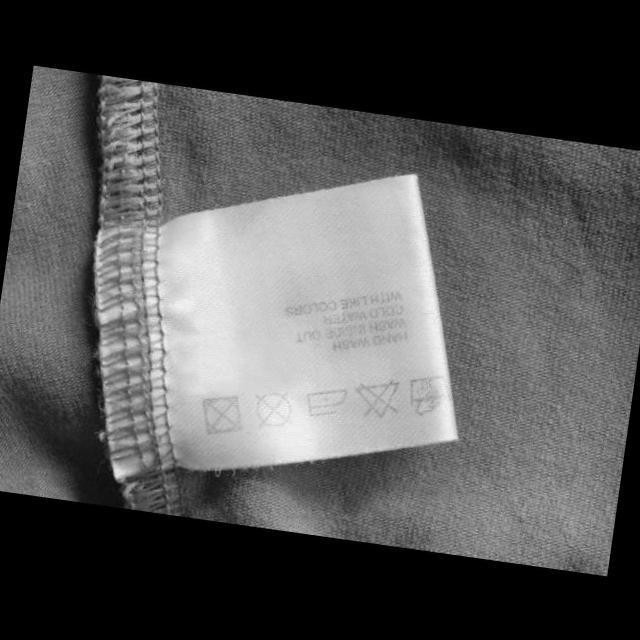30C: (402, 367, 457, 413)
DN_bleach: (348, 370, 404, 423)
DN_dry_clean: (246, 385, 298, 433)
DN_tumble_dry: (192, 386, 250, 442)
iron_low: (301, 381, 348, 422)
